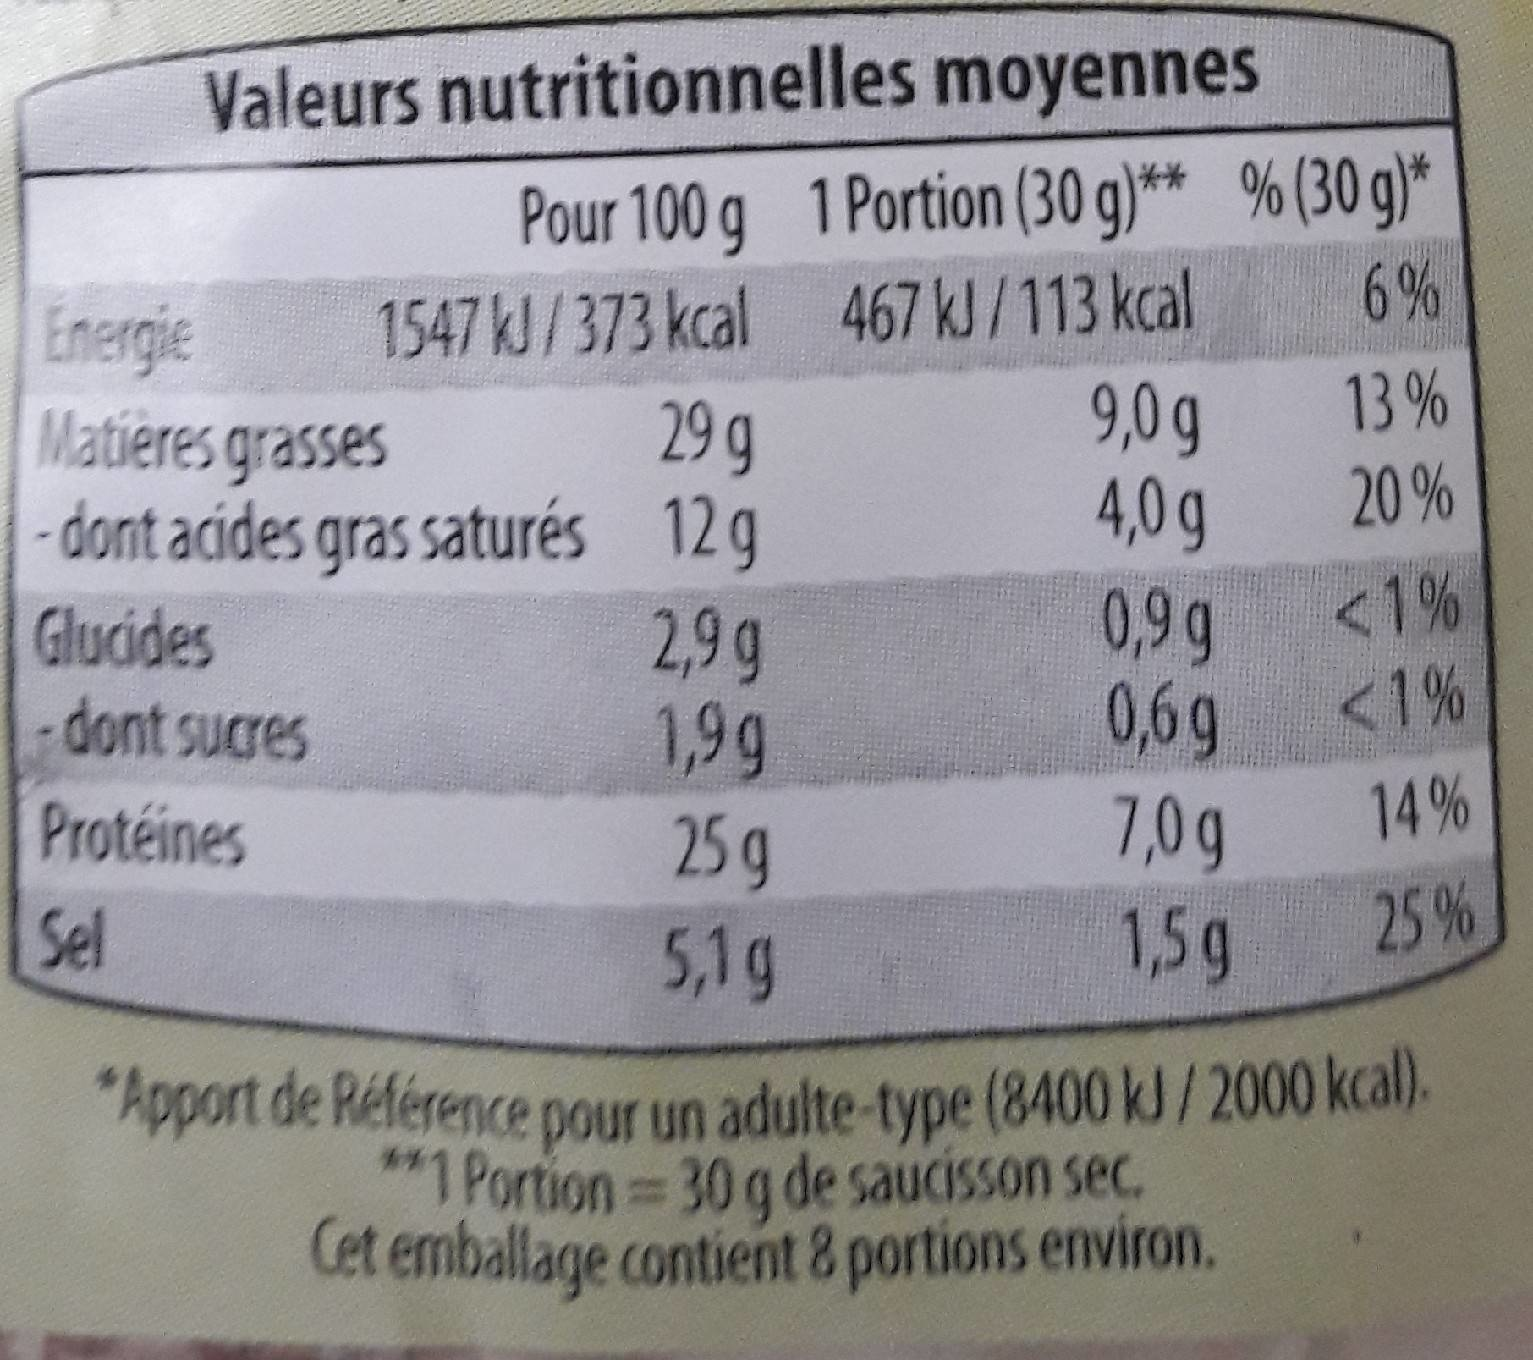column: (28, 139, 773, 1057), (805, 143, 1235, 1055), (1240, 133, 1478, 1054)
table: (12, 11, 1511, 1057)
